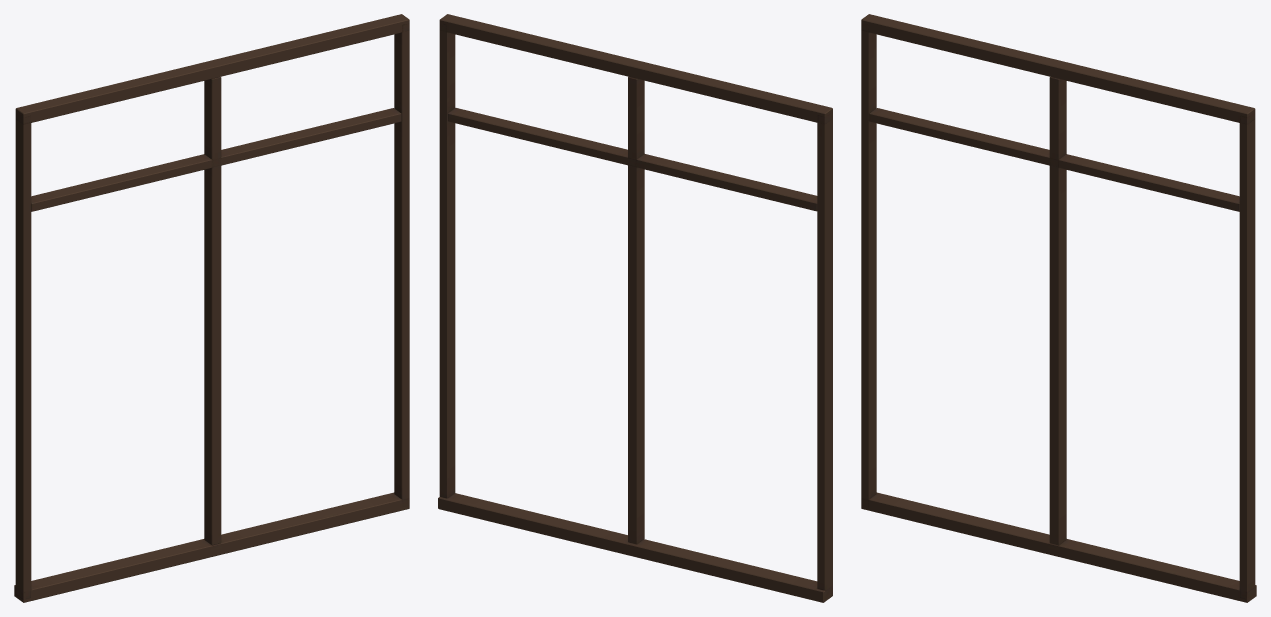
File: atrium_bay_glazing.glb
The picture shows the model from 3 angles, left to right: view 1: azimuth 30°, elevation 25°; view 2: azimuth 150°, elevation 25°; view 3: azimuth 330°, elevation 25°; orthographic projection.
Visible parts, largest first — view 1: atrium_bay_glazing; view 2: atrium_bay_glazing; view 3: atrium_bay_glazing.
Boxes of the visible parts, bbox=[...] form: atrium_bay_glazing: bbox=[14, 14, 409, 602]; atrium_bay_glazing: bbox=[438, 14, 832, 602]; atrium_bay_glazing: bbox=[861, 14, 1256, 602].
Size of the model in its own units: 2.82 by 3.41 by 0.1199.
Materials: 1 (1 with a texture image).
